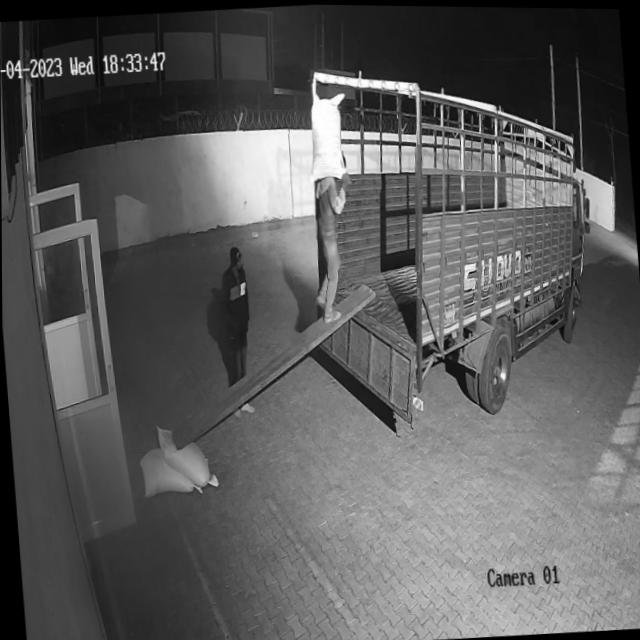sack: (304, 87, 351, 181), (154, 420, 217, 489), (137, 442, 200, 496)
